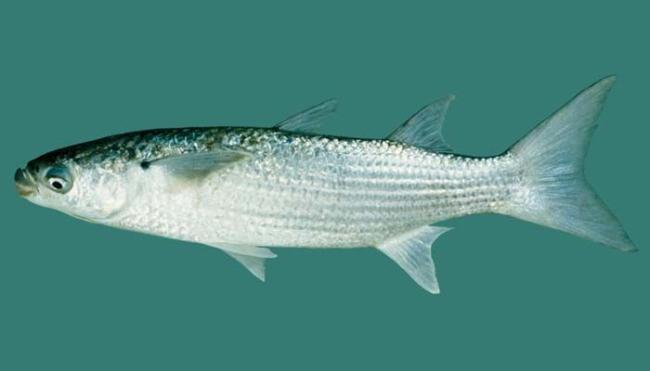fish: (14, 75, 640, 294)
